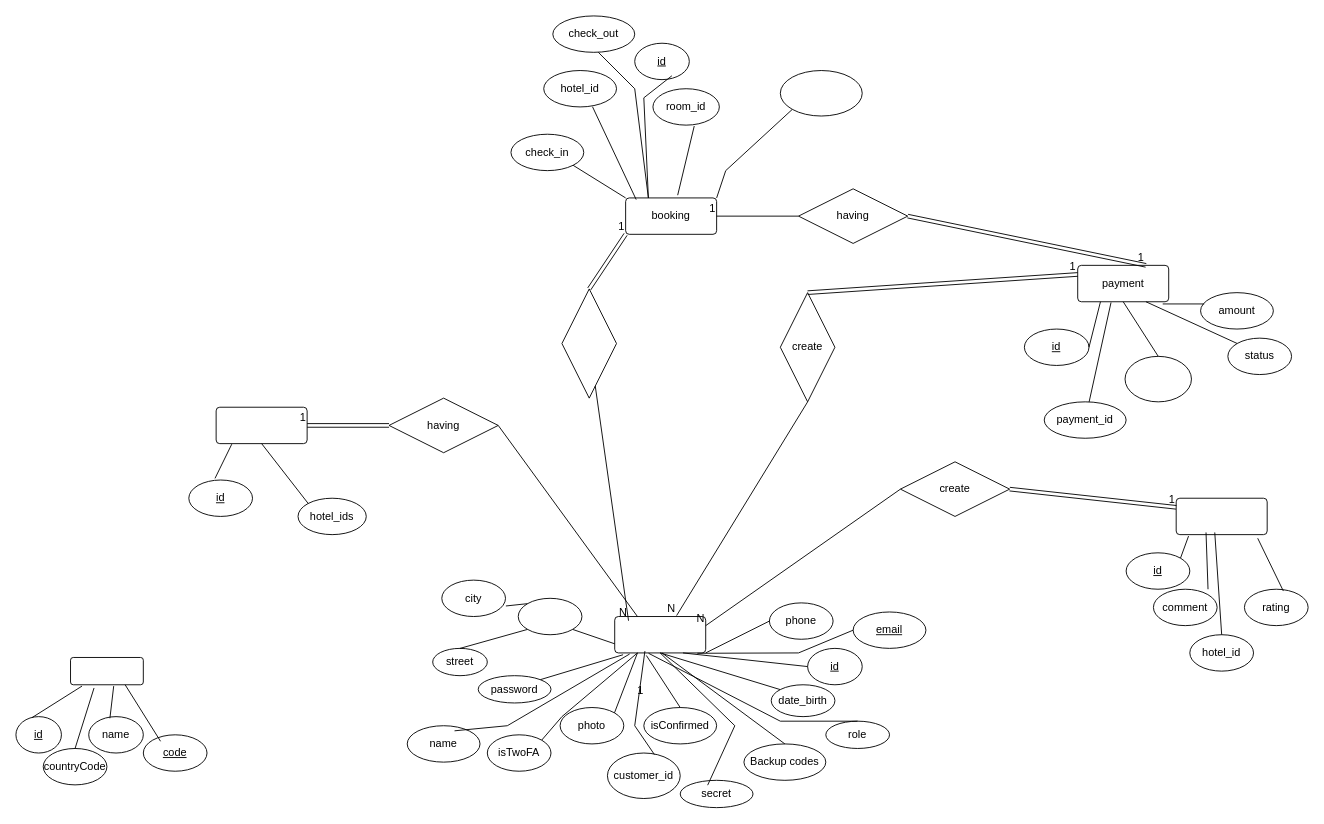
The diagram is 1324 pixels wide and 824 high, and some of its shapes have lost their labels. The centre of each missing label's shape, as x and y in pixels:
"address" belongs at point (549, 616).
"book" belongs at point (589, 343).
"booking_status" belongs at point (820, 93).
"destination" belongs at point (106, 671).
"favourite" belongs at point (261, 425).
"paidAt" belongs at point (1157, 378).
"review" belongs at point (1221, 516).
"user" belongs at point (660, 634).
